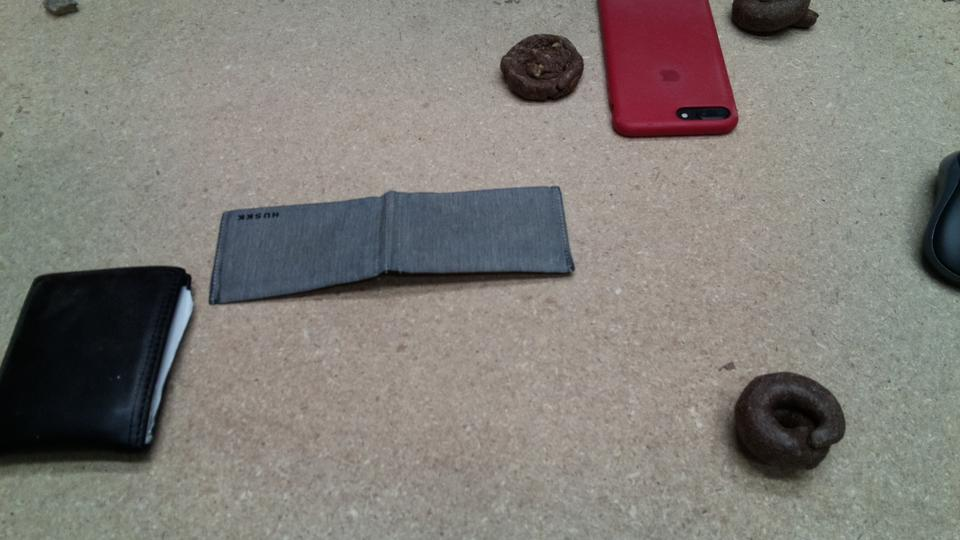poop: (729, 369, 850, 481), (498, 30, 587, 105), (729, 1, 823, 39)
